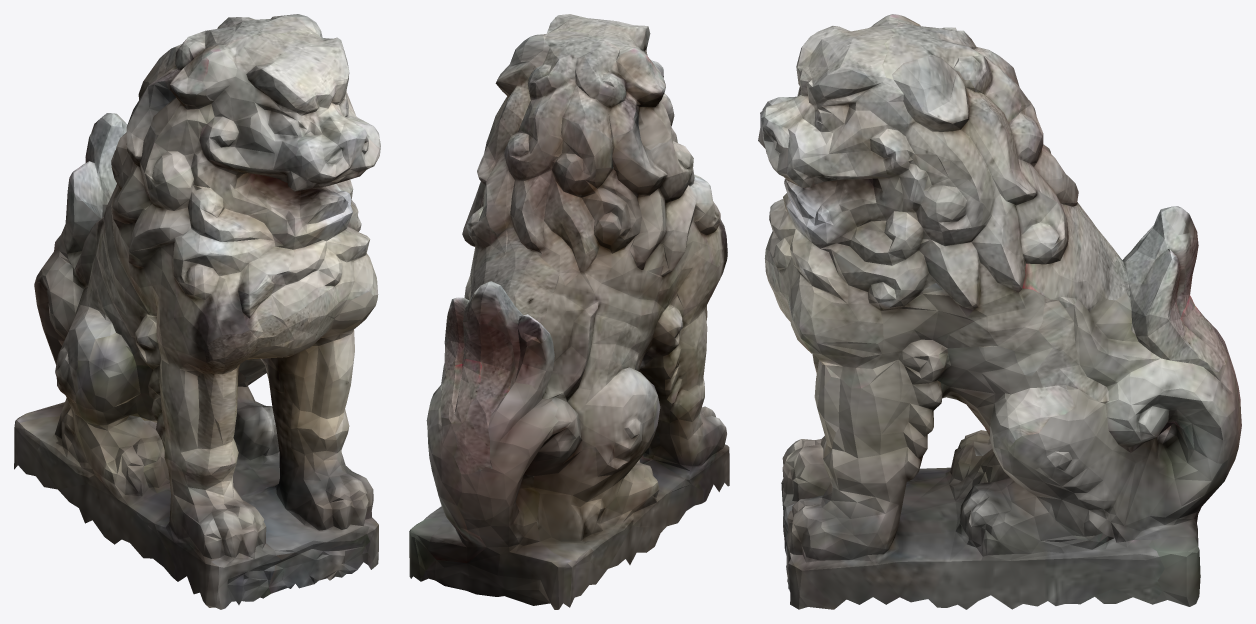
The model's file is komainu-scan-2.glb.
The picture shows the model from 3 angles, left to right: view 1: azimuth 30°, elevation 25°; view 2: azimuth 150°, elevation 25°; view 3: azimuth 270°, elevation 25°; orthographic projection. The views are drawn at different scales.
Bounding box in the file's own units: 0.4618 × 1.03 × 0.8348.
1 material, 1 textured.
